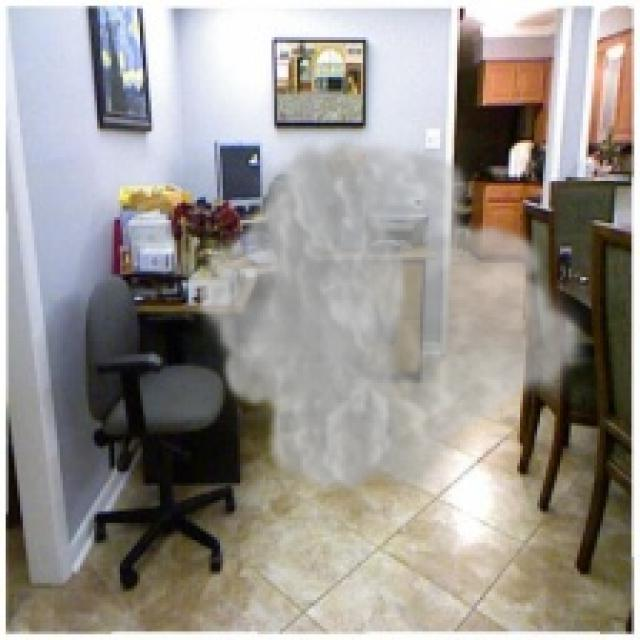smoke: (192, 128, 592, 503)
